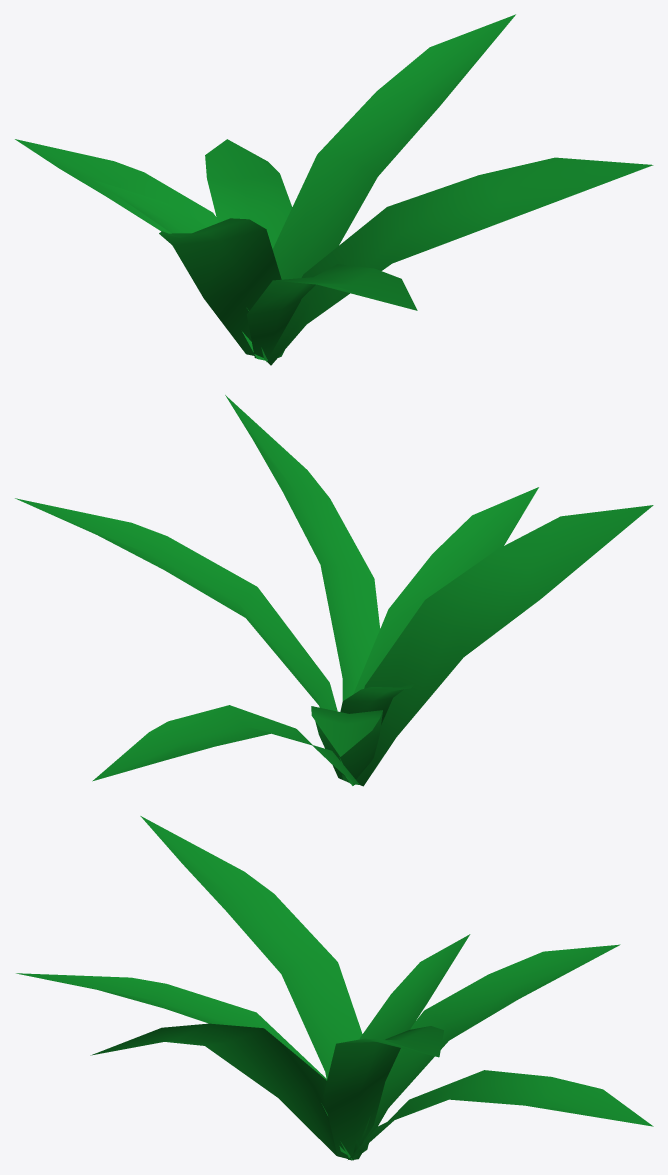
File: Planta.fbx
3 renders of one model, top to bottom at view 1: azimuth 30°, elevation 25°; view 2: azimuth 150°, elevation 25°; view 3: azimuth 270°, elevation 25°, orthographic.
Parts seen in each view (by area): view 1: Planta.001; view 2: Planta.001; view 3: Planta.001.
Boxes of the visible parts, left/top/right/bottom form: Planta.001: left=15, top=14, right=653, bottom=365; Planta.001: left=15, top=395, right=653, bottom=786; Planta.001: left=16, top=816, right=653, bottom=1160.
Bounding box in the file's own units: 82.11 × 40.13 × 92.88.
